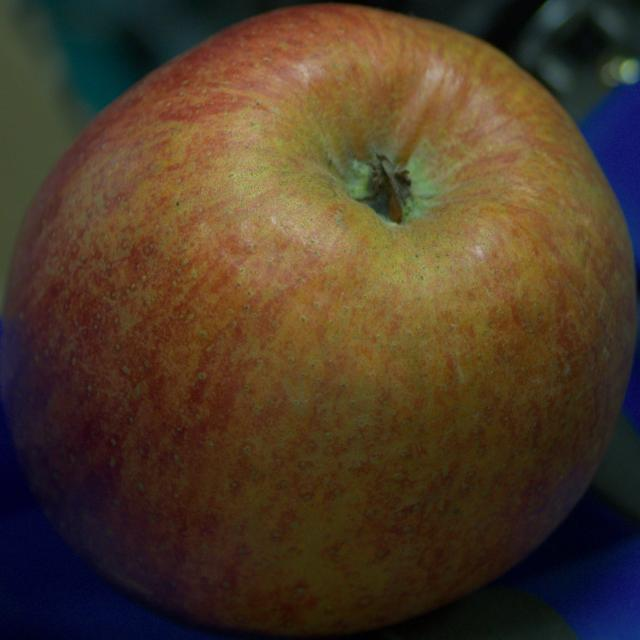apple: (0, 4, 637, 635)
